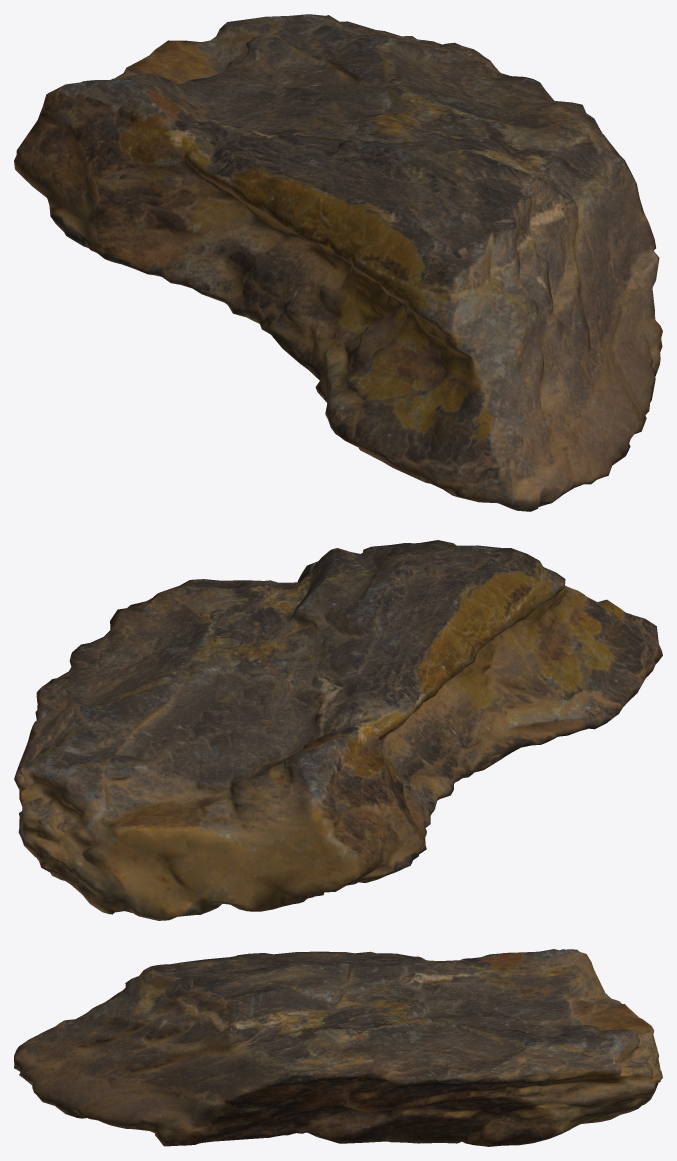
File: rock_09.glb
3 renders of one model, top to bottom at view 1: azimuth 30°, elevation 25°; view 2: azimuth 150°, elevation 25°; view 3: azimuth 270°, elevation 25°, orthographic. The views are drawn at different scales.
Parts seen in each view (by area): view 1: rock_09_LOD0; view 2: rock_09_LOD0; view 3: rock_09_LOD0.
Boxes of the visible parts, <box> form: rock_09_LOD0: <box>14,14,662,511</box>; rock_09_LOD0: <box>14,540,662,920</box>; rock_09_LOD0: <box>14,949,662,1146</box>.
Size of the model in its own units: 0.074 by 0.0328 by 0.1446.
Materials: 1 (1 with a texture image).
